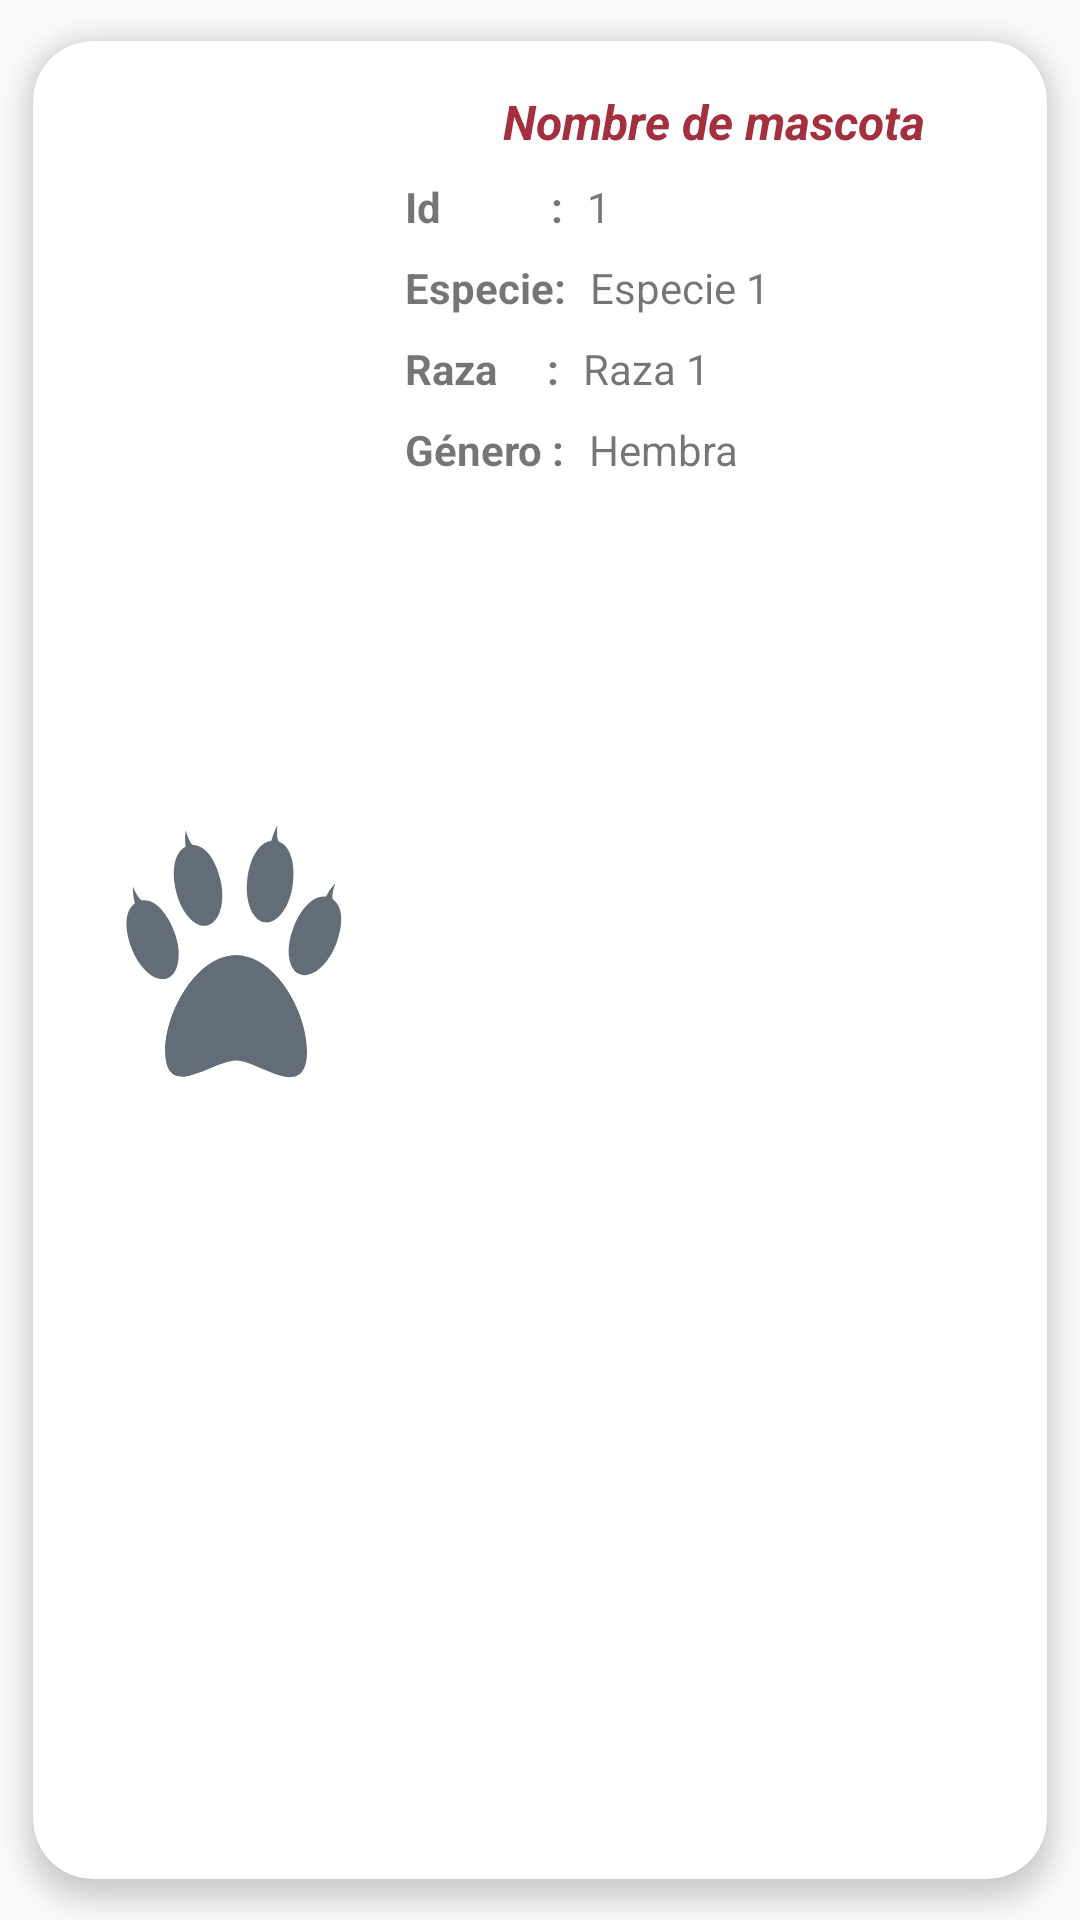

Icon bounding boxes for this 1080w x 1920h phone screenshot, format detection(x1, y1, x2, y2):
wired paws animal: detection(126, 826, 342, 1078)
